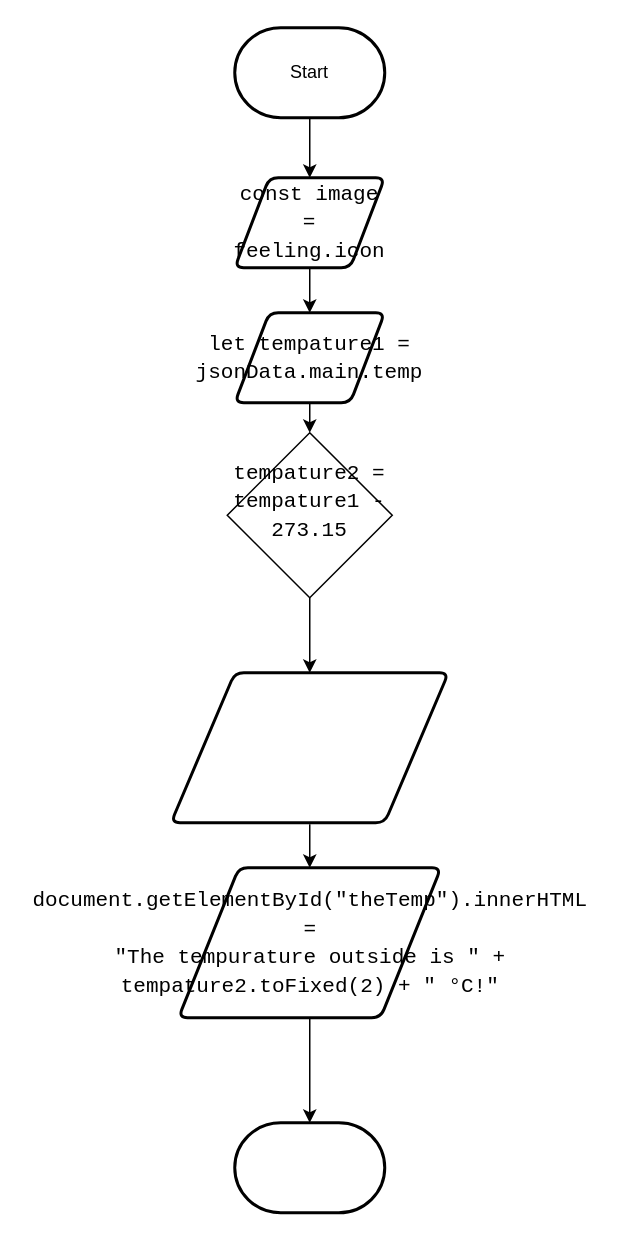
Some shapes in this 618 by 1239 pixel diagram are drawn without their labels. The shapes that lost their labels are listed below. From the top down, each one's centre as x and y in pixels, then its label:
pixel 309 747: document.getElementById("theImage").innerHTML = "<img src='link"
pixel 309 1167: Stop
